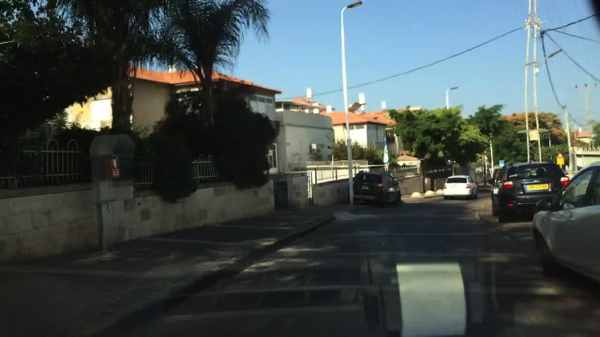car: (530, 160, 599, 290), (487, 162, 572, 225), (346, 169, 402, 209), (487, 168, 506, 219), (443, 174, 479, 200)
traffic sign: (555, 153, 565, 165), (499, 161, 506, 166)
